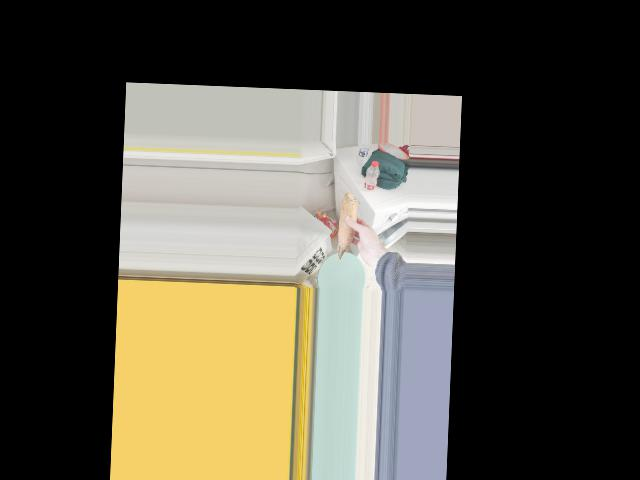sweet_potato: (335, 189, 362, 261)
